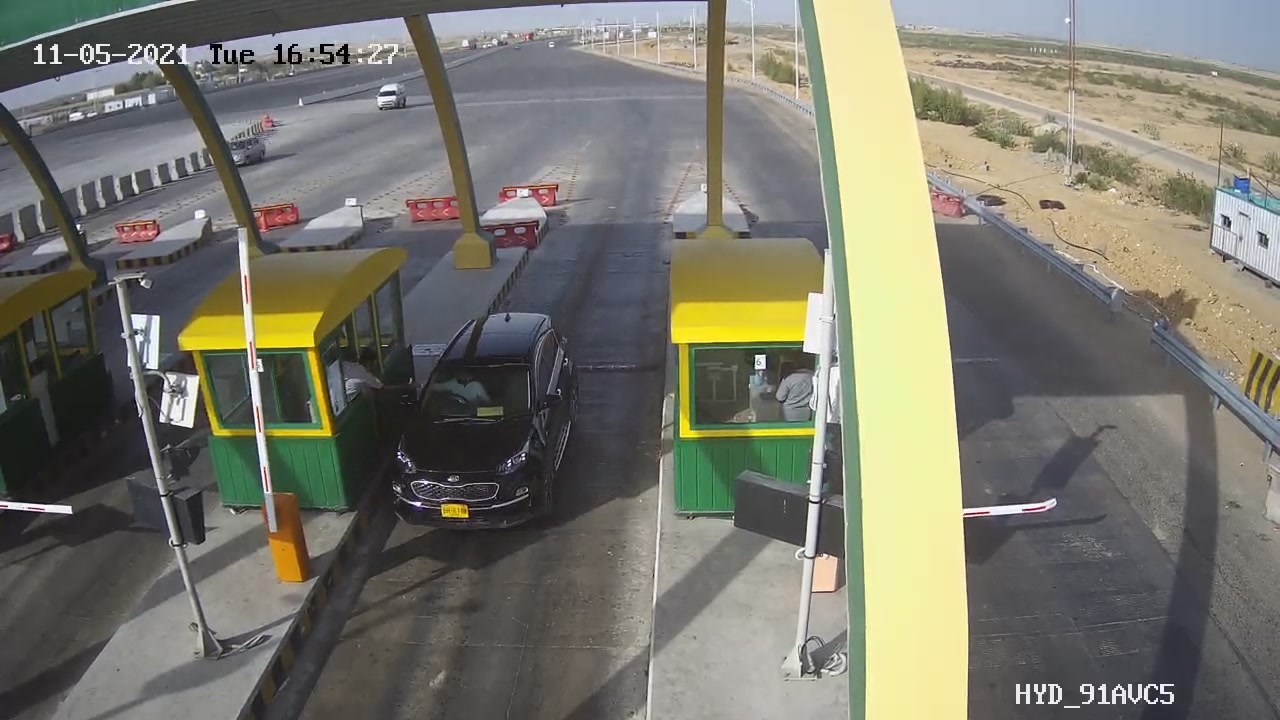F1: (370, 297, 603, 549)
